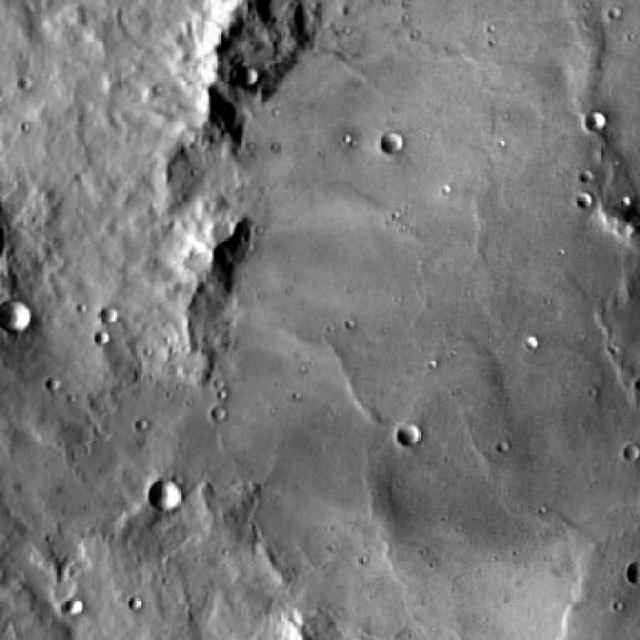crater: (0, 299, 32, 331), (148, 481, 178, 512), (381, 128, 407, 154), (585, 112, 607, 133), (242, 65, 263, 86), (396, 428, 418, 448), (103, 307, 122, 325), (64, 600, 82, 617), (624, 444, 636, 461)
